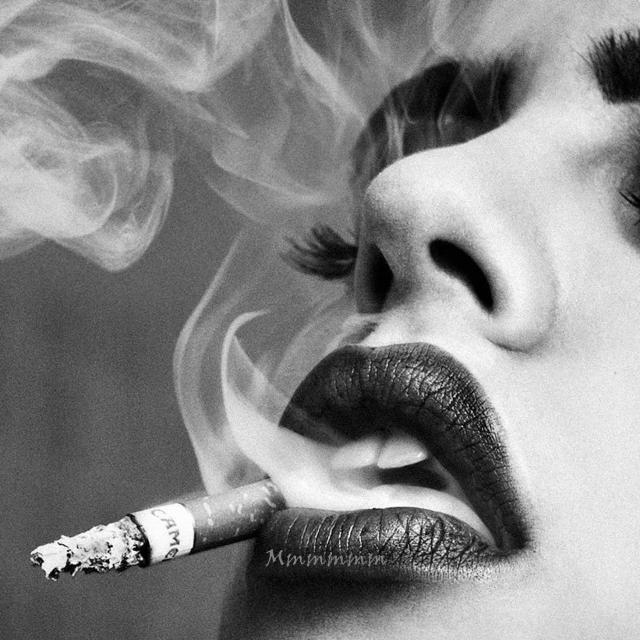rokok: (12, 445, 346, 589)
